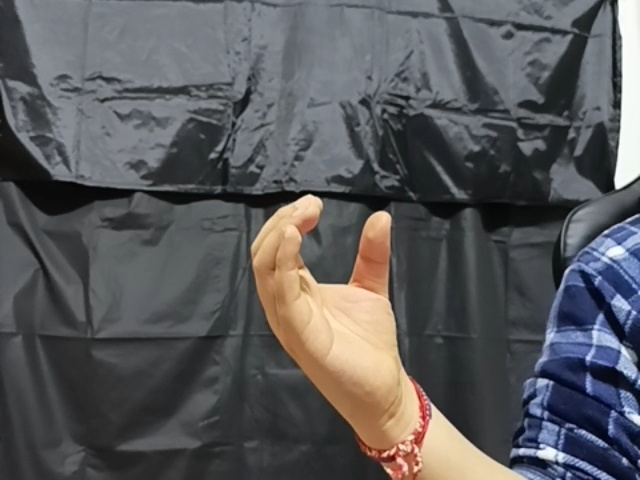C: (247, 192, 424, 405)
